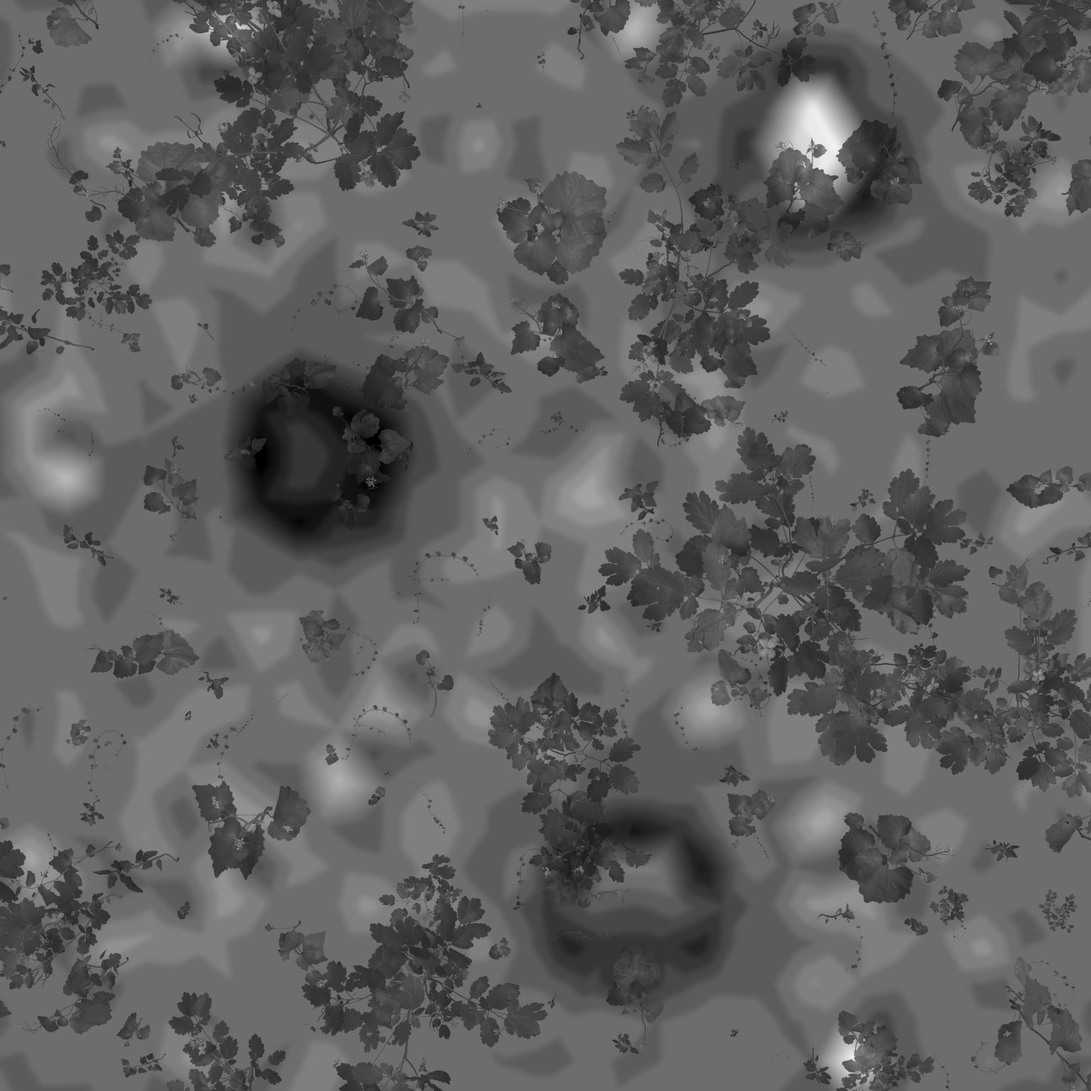landmine: (543, 807, 718, 973), (230, 378, 396, 542), (729, 60, 885, 223)
